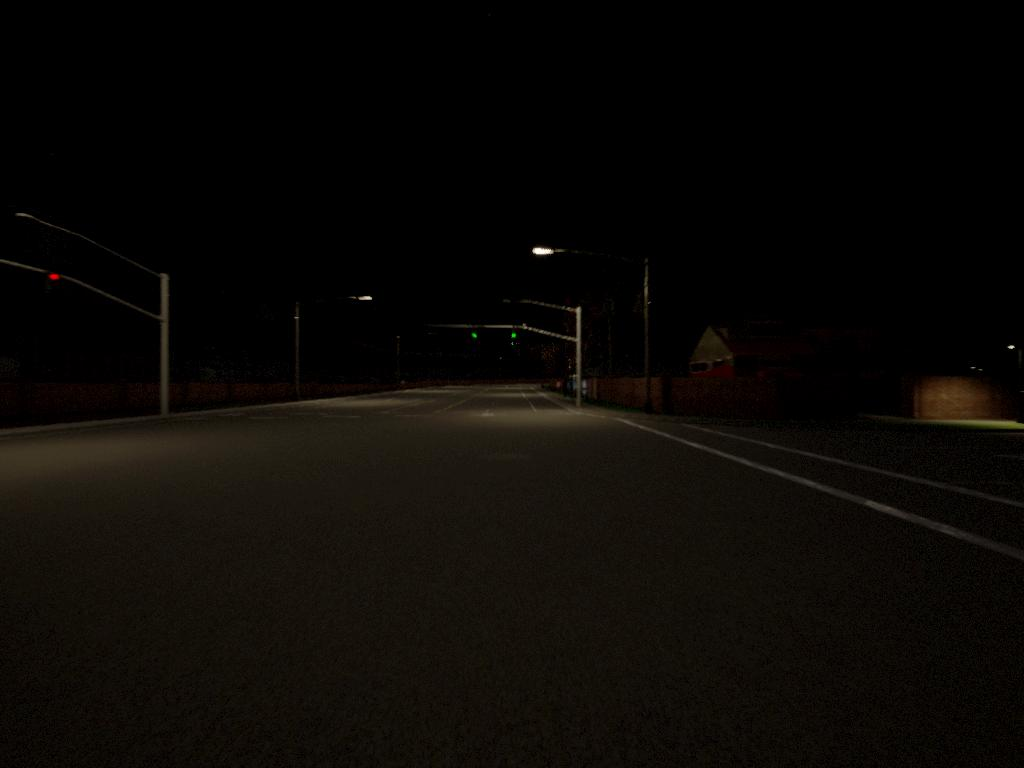traffic_light: (47, 271, 62, 294), (511, 328, 519, 344), (471, 328, 480, 342)
